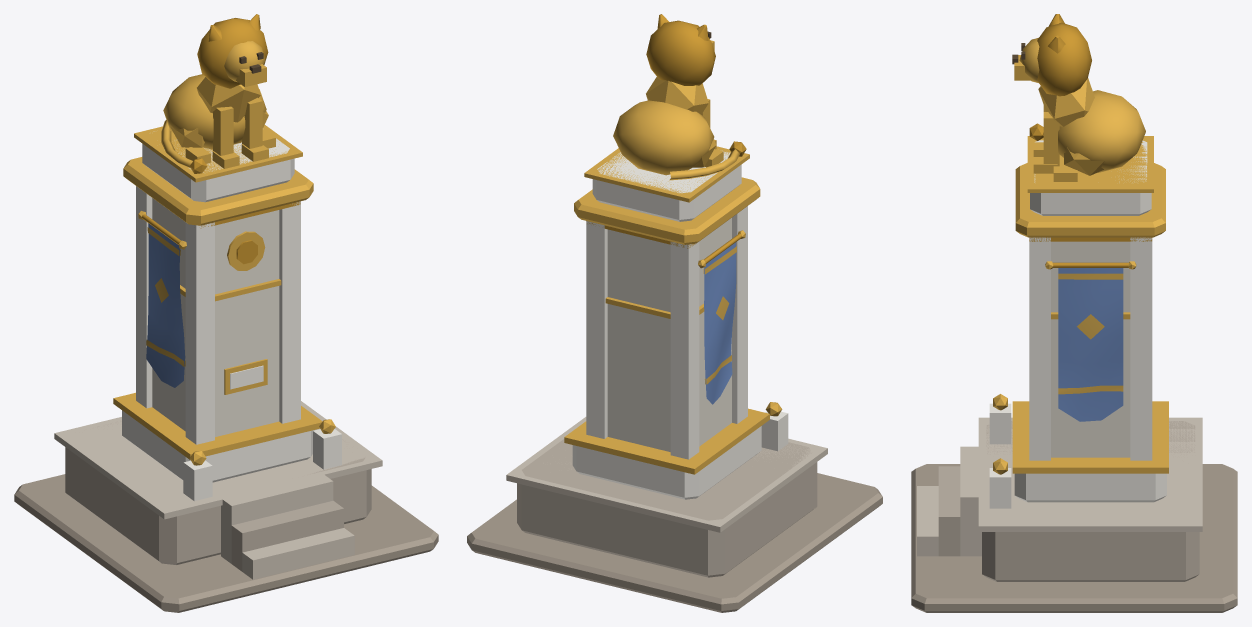
The model's file is lion_monument.glb.
3 renders of one model, left to right at view 1: azimuth 30°, elevation 25°; view 2: azimuth 150°, elevation 25°; view 3: azimuth 270°, elevation 25°, orthographic. The views are drawn at different scales.
Visible parts, largest first — view 1: ground_slab, tower_shaft, terrace_coping, base_terrace, tower_pilaster_2, tower_pilaster_3, cornice, tower_pedestal, banner_fabric_l, lion_plinth, tower_pedestal_band, stair_step_3 (+14 smaller); view 2: base_terrace, ground_slab, tower_shaft, tower_pilaster_0, lion_haunches, tower_pedestal, lion_plinth, tower_pilaster_1, cornice, terrace_coping, tower_pedestal_band, banner_fabric_l (+6 smaller); view 3: ground_slab, base_terrace, terrace_coping, banner_fabric_r, tower_shaft, tower_pilaster_1, tower_pilaster_3, cornice, lion_haunches, tower_pedestal_band, tower_pedestal, lion_plinth_band (+14 smaller).
Part boxes in pixels (bbox=[...]): ground_slab: bbox=[14, 474, 438, 612]; tower_shaft: bbox=[152, 198, 279, 436]; terrace_coping: bbox=[54, 401, 382, 519]; base_terrace: bbox=[65, 420, 371, 564]; tower_pilaster_2: bbox=[185, 222, 214, 444]; tower_pilaster_3: bbox=[279, 201, 300, 423]; cornice: bbox=[123, 157, 313, 225]; tower_pedestal: bbox=[122, 410, 314, 482]; banner_fabric_l: bbox=[146, 223, 185, 387]; lion_plinth: bbox=[142, 131, 294, 202]; tower_pedestal_band: bbox=[113, 392, 322, 459]; stair_step_3: bbox=[221, 474, 333, 563]; base_terrace: bbox=[517, 439, 817, 577]; ground_slab: bbox=[467, 473, 882, 612]; tower_shaft: bbox=[607, 218, 731, 451]; tower_pilaster_0: bbox=[670, 242, 699, 459]; lion_haunches: bbox=[613, 100, 714, 175]; tower_pedestal: bbox=[572, 426, 761, 499]; lion_plinth: bbox=[592, 150, 741, 221]; tower_pilaster_1: bbox=[586, 221, 607, 438]; cornice: bbox=[574, 177, 760, 244]; terrace_coping: bbox=[506, 417, 827, 532]; tower_pedestal_band: bbox=[564, 408, 769, 474]; banner_fabric_l: bbox=[704, 242, 736, 404]; ground_slab: bbox=[911, 464, 1237, 612]; base_terrace: bbox=[982, 421, 1199, 581]; terrace_coping: bbox=[978, 417, 1202, 531]; banner_fabric_r: bbox=[1058, 268, 1123, 421]; tower_shaft: bbox=[1051, 241, 1130, 457]; tower_pilaster_1: bbox=[1130, 237, 1152, 460]; tower_pilaster_3: bbox=[1029, 237, 1050, 460]; cornice: bbox=[1015, 163, 1165, 237]; lion_haunches: bbox=[1058, 90, 1145, 172]; tower_pedestal_band: bbox=[1012, 401, 1168, 473]; tower_pedestal: bbox=[1014, 473, 1166, 502]; lion_plinth_band: bbox=[1027, 136, 1153, 192].
Size of the model in its own units: 3 by 5.29 by 3.
